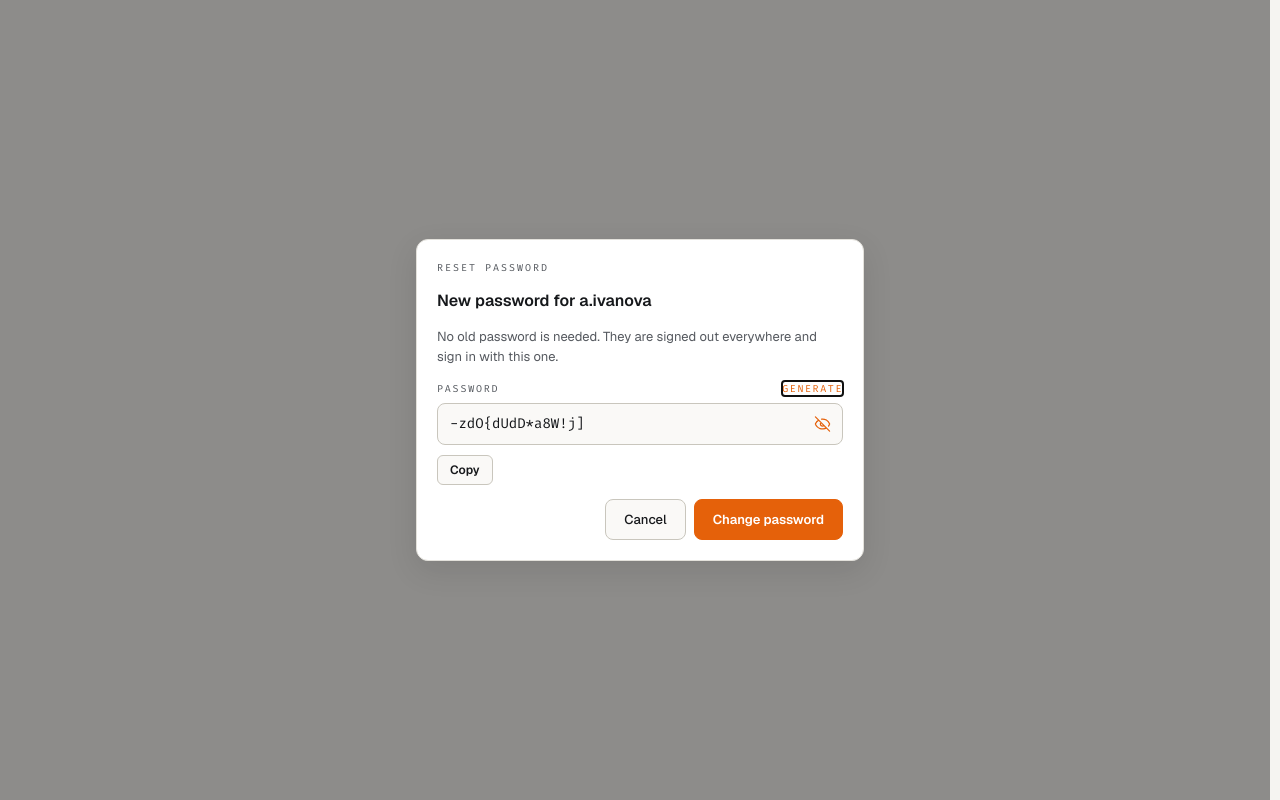
ResetPasswordDialog › tells the reader to copy by hand when the clipboard refuses
The image size is (1280, 800).
Click the button with aria-label "Copy password".
click(465, 470)  # box x1=437 y1=455 x2=493 y2=485
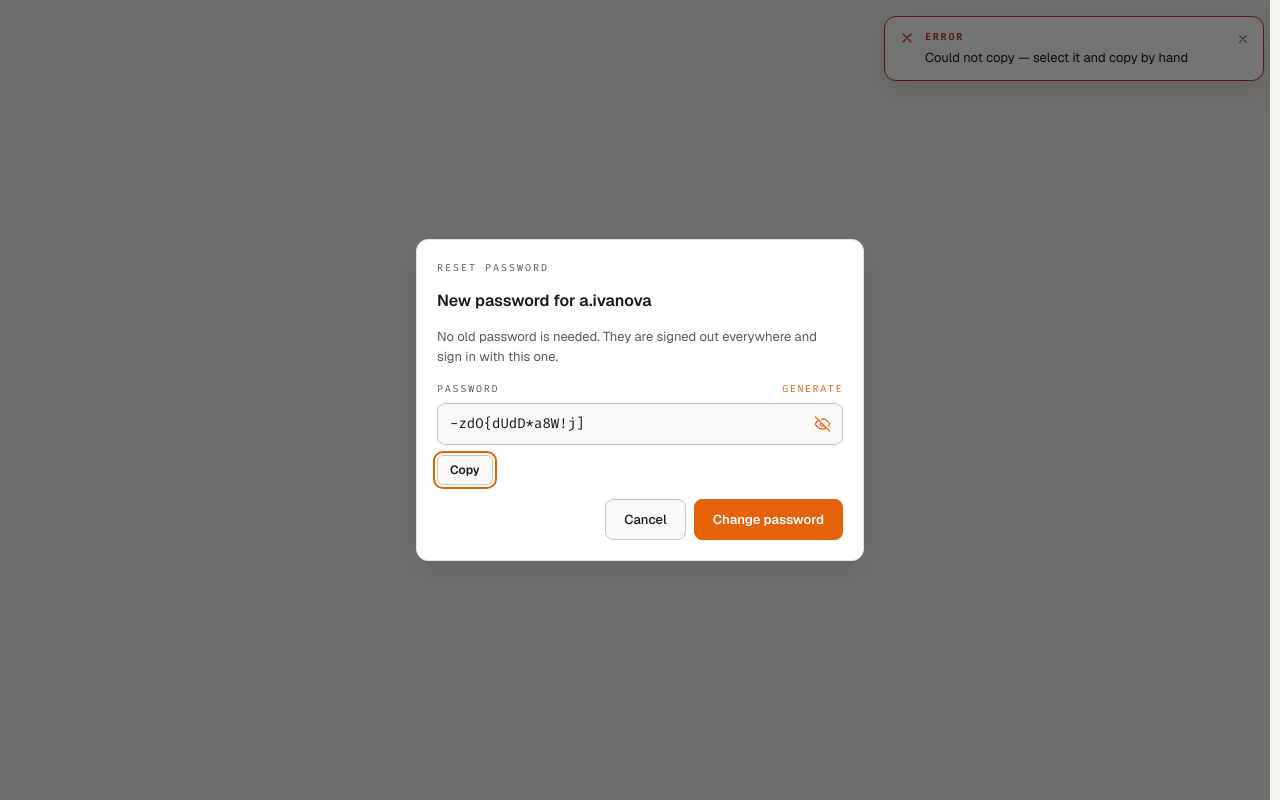
Check: the text "Could not copy — select it and copy by hand" is shown, box x1=925 y1=49 x2=1221 y2=68
